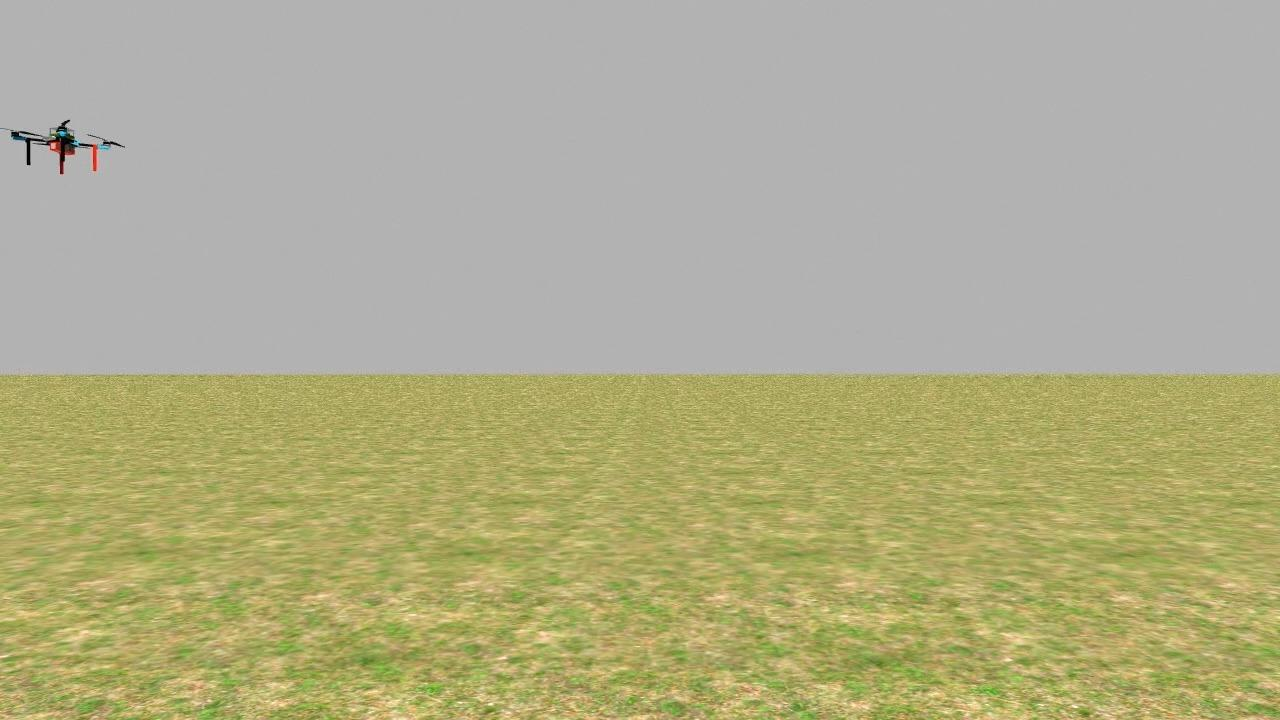UAV: (0, 96, 128, 194)
